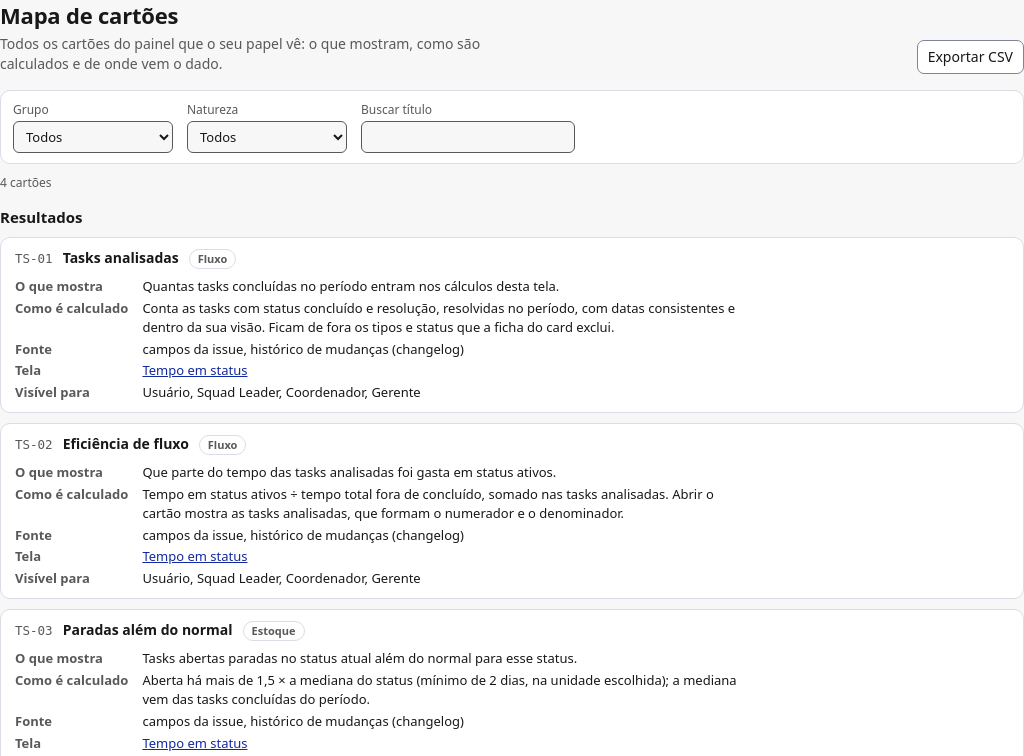
tela Mapa de cartões › agrupaPorGrupoEFiltraPorNatureza
// Filtro de natureza reduz a lista e some o grupo vazio.
Select "Estoque" in the dropdown labelled "Natureza": (267, 137) [187, 121, 347, 153]
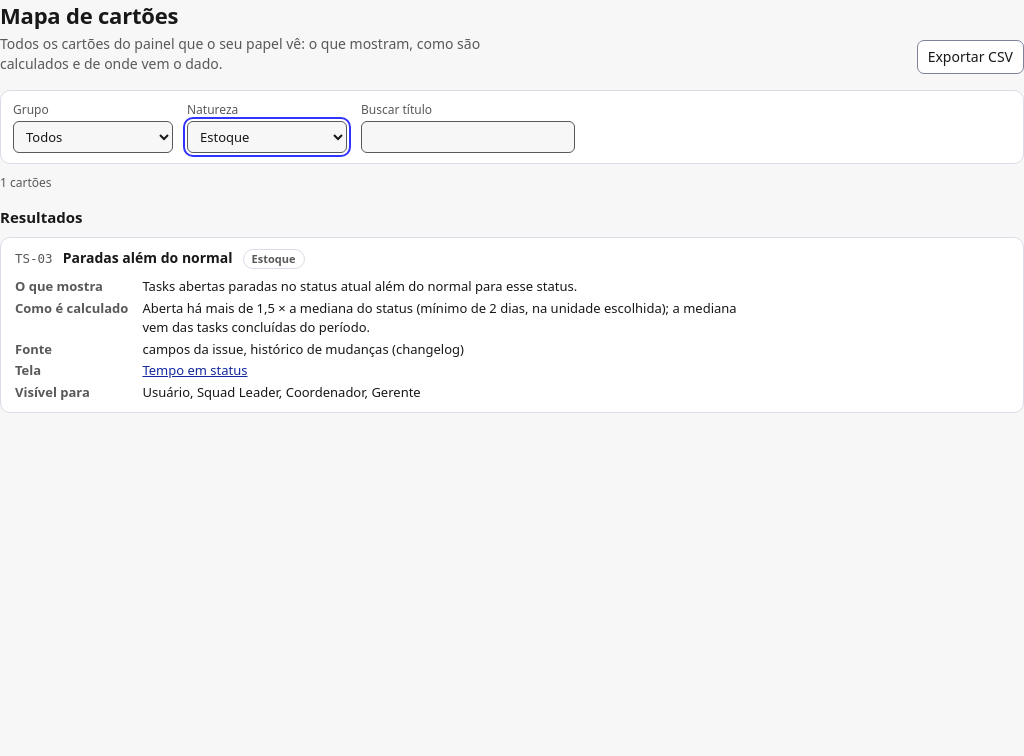
Expected: the headings read "Resultados", in this order, [0, 207, 82, 227]
Expected: the number of list items is 1, [0, 237, 1023, 413]
// Filtro de grupo.
Select "Todos" in the dropdown labelled "Natureza": (267, 137) [187, 121, 347, 153]
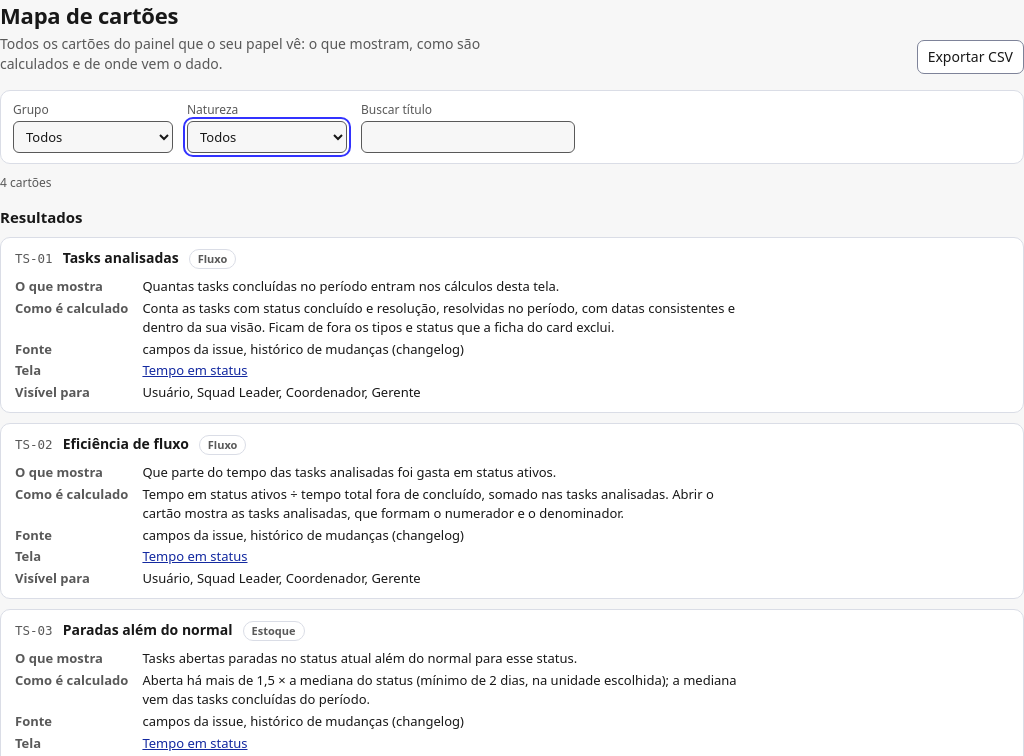
Select "Governança" in the dropdown labelled "Grupo": (93, 137) [13, 121, 173, 153]
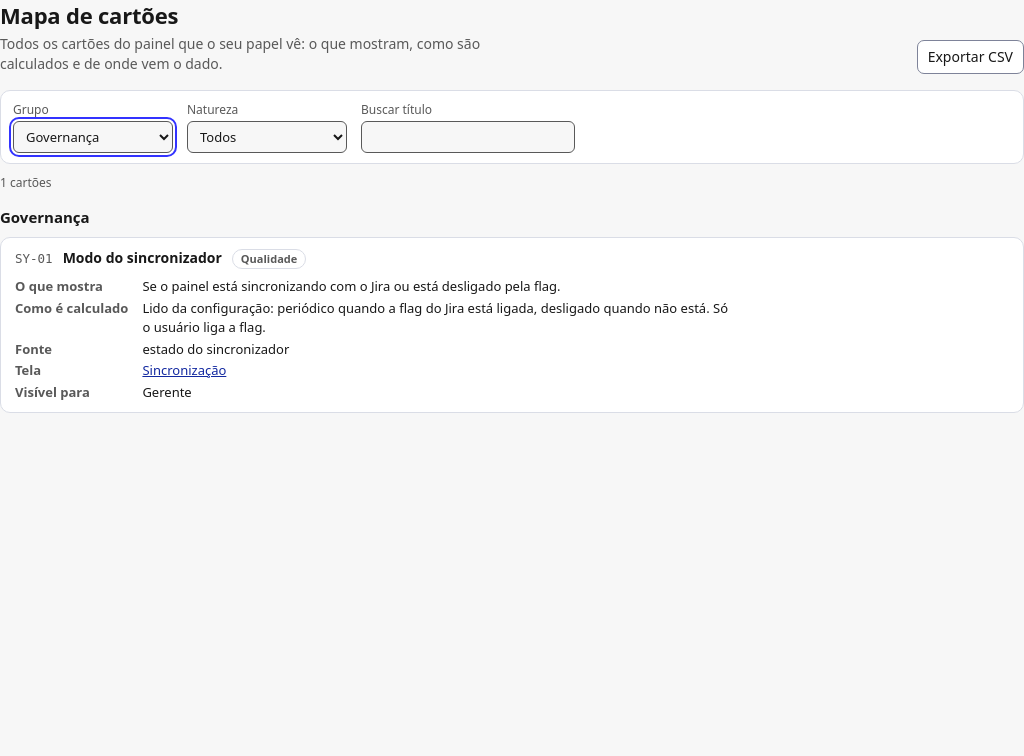
Expected: the heading "Modo do sincronizador" is shown, [63, 248, 222, 268]
Expected: the number of list items is 1, [0, 237, 1023, 413]
